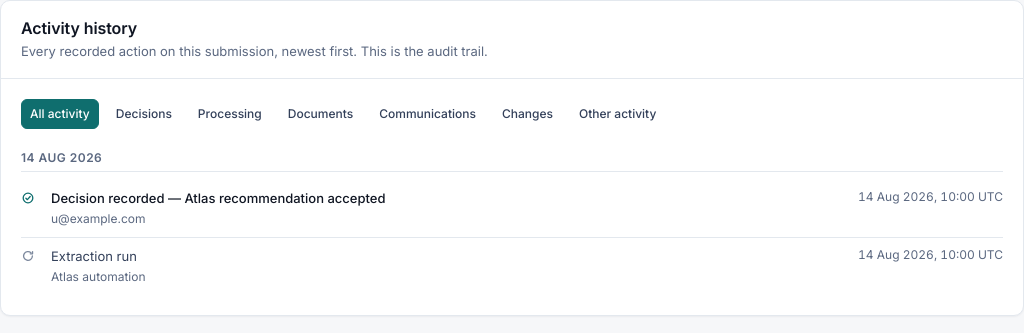
Test case: Audit timeline › returns the full list when the All activity filter is chosen
Expected: the text "Decision recorded — Atlas recommendation accepted" is shown, [51,190,386,206]
Click the button "Processing": click(230, 114) [189,98,271,128]
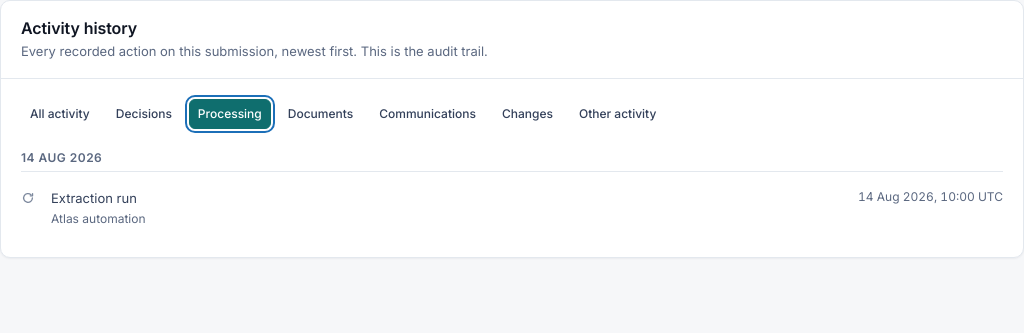
Click the button "All activity": click(60, 114) [21,98,99,128]
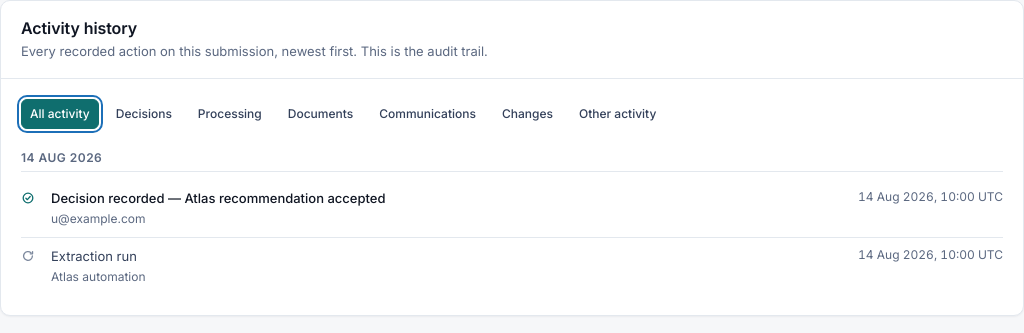
Expected: the text "Extraction run" is shown, [51,248,137,264]
Now the text "Decision recorded — Atlas recommendation accepted" is shown, box [51,190,386,206]
